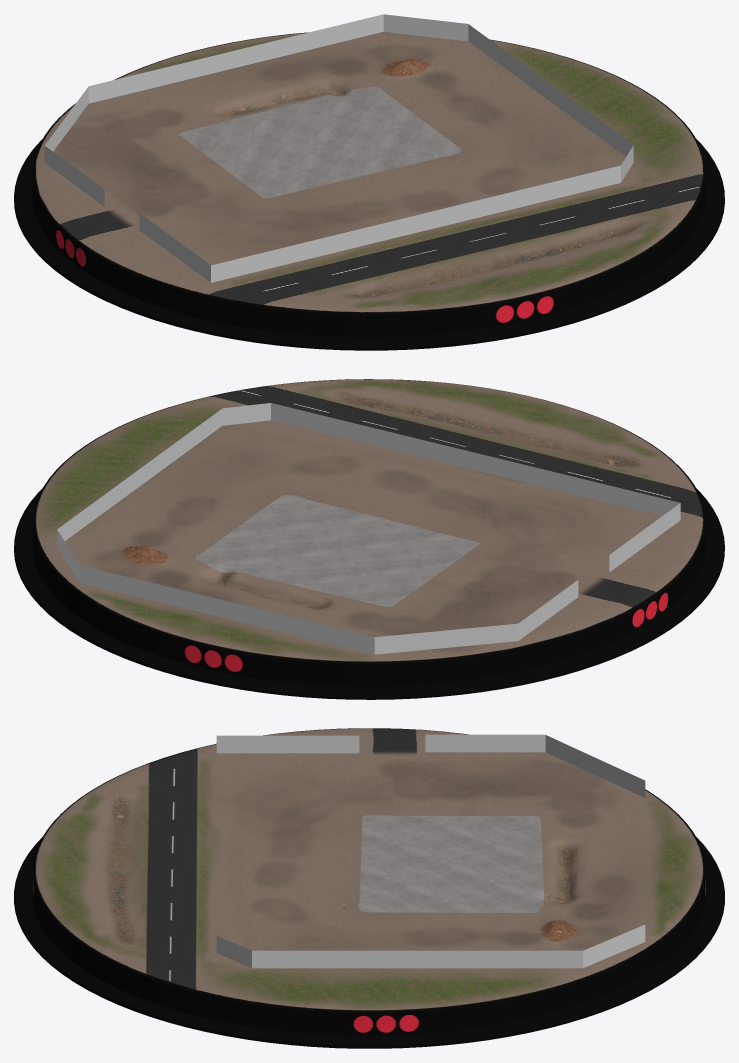
The model's file is chantier_terrain.fbx.
3 renders of one model, top to bottom at view 1: azimuth 30°, elevation 25°; view 2: azimuth 150°, elevation 25°; view 3: azimuth 270°, elevation 25°, orthographic.
Parts seen in each view (by area): view 1: floor_1, Line001; view 2: floor_1, Line001; view 3: floor_1, Line001.
Boxes of the visible parts, <box> form: floor_1: <box>14,32,724,350</box>; Line001: <box>44,14,633,282</box>; floor_1: <box>14,379,724,699</box>; Line001: <box>57,403,680,654</box>; floor_1: <box>14,728,724,1048</box>; Line001: <box>216,734,645,968</box>.
Bounding box in the file's own units: 92 × 6.88 × 92.
